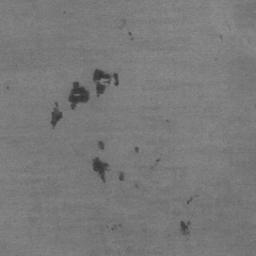Iron scale compression: (92, 69, 120, 96), (68, 80, 90, 110), (92, 157, 109, 183), (50, 102, 62, 128), (180, 220, 191, 235), (149, 158, 161, 169), (187, 195, 199, 204), (117, 20, 126, 29), (97, 141, 104, 150), (118, 172, 124, 180)
